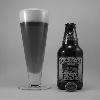beer: (13, 6, 53, 95)
